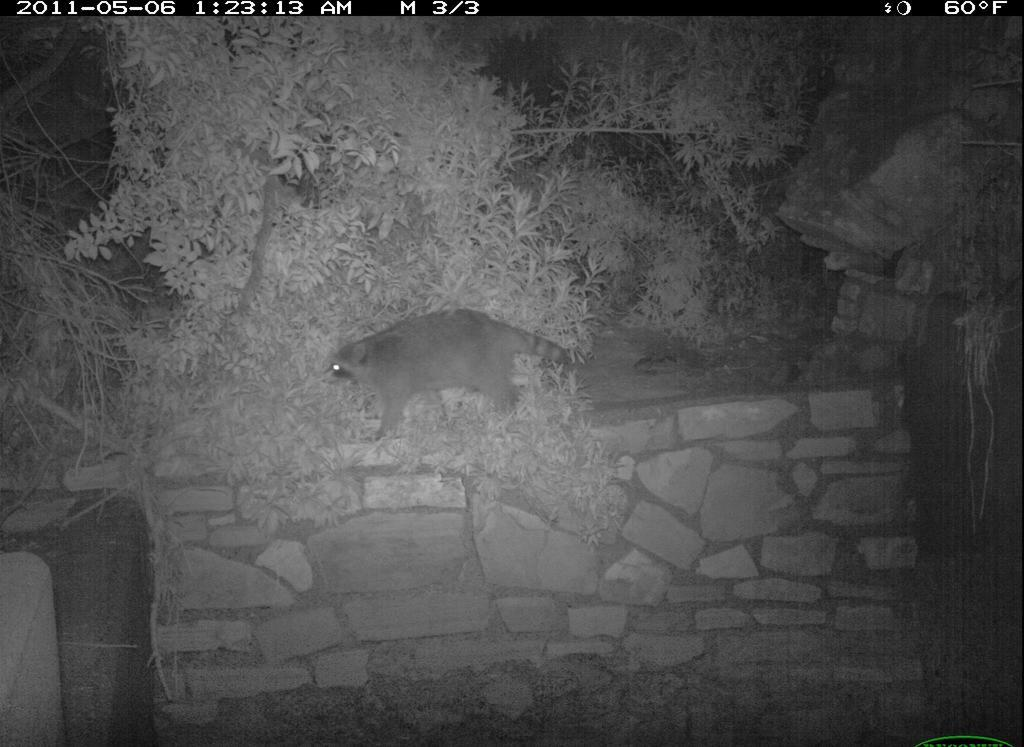raccoon: (318, 299, 600, 450)
